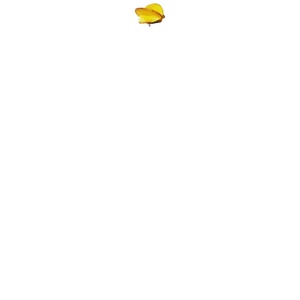carambola: (136, 4, 166, 26)
